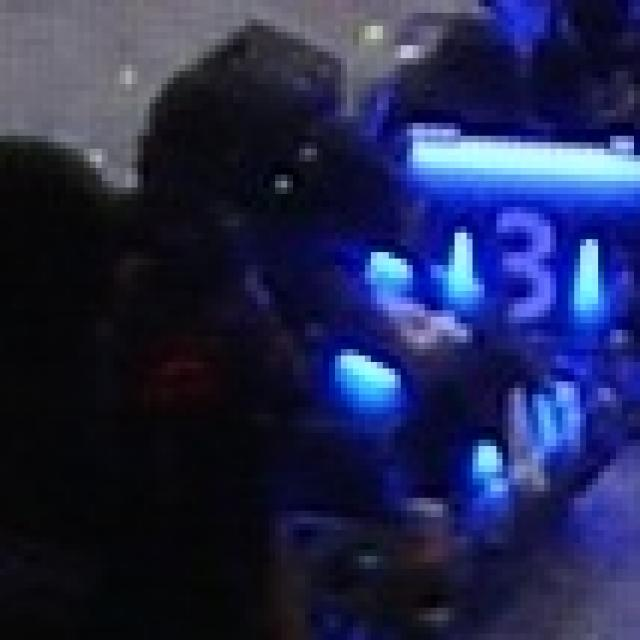B3: (449, 200, 604, 324)
B4: (473, 381, 562, 498)
